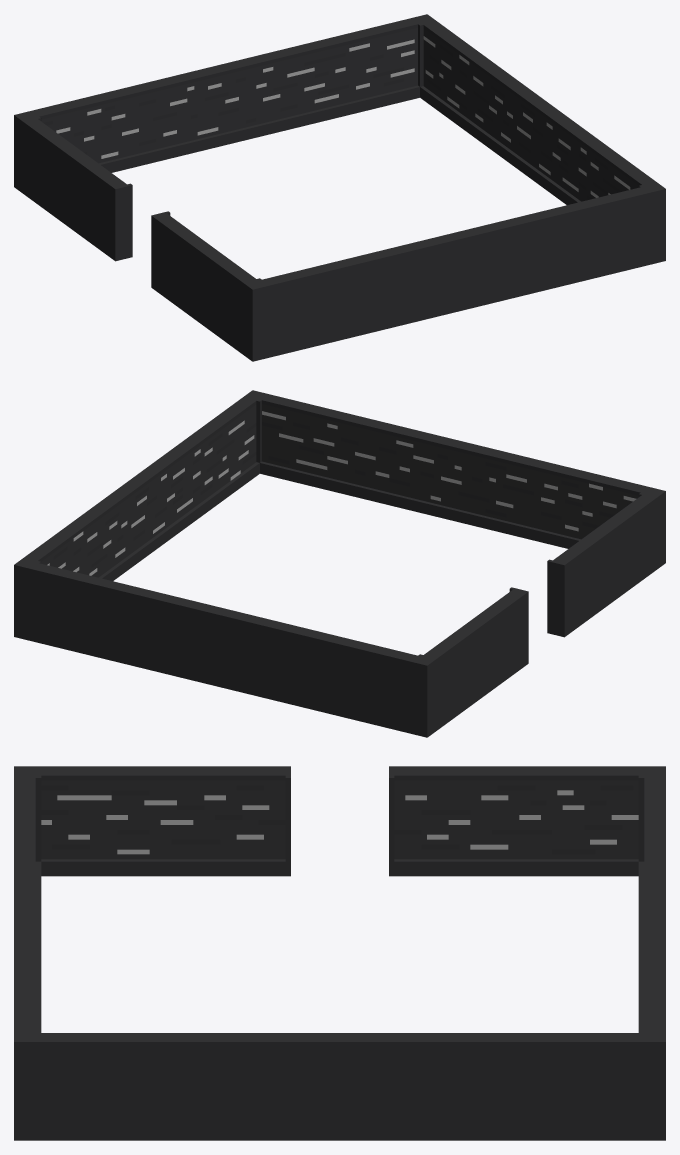
The model's file is 1door.obj.
3 views of the same model, one above another, from view 1: azimuth 30°, elevation 25°; view 2: azimuth 150°, elevation 25°; view 3: azimuth 270°, elevation 25° (orthographic). The views are drawn at different scales.
Size of the model in its own units: 12 by 2 by 12.
